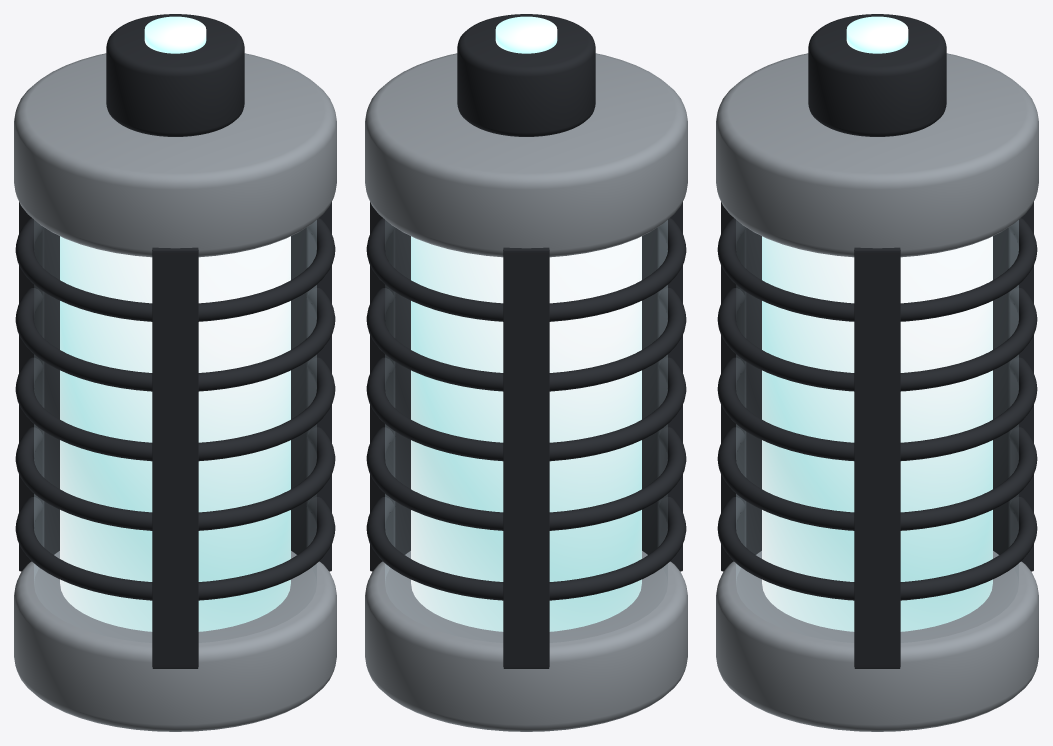
Rendered from coolant.fbx.
The picture shows the model from 3 angles, left to right: view 1: azimuth 30°, elevation 25°; view 2: azimuth 150°, elevation 25°; view 3: azimuth 270°, elevation 25°; orthographic projection.
Parts seen in each view (by area): view 1: Cylinder.002, Cylinder.001, Cylinder.004, Cylinder.003, Cube.002, Cylinder.005, Torus.004, Torus.002, Torus.001, Torus.003, Torus.005, Cube.001 (+2 smaller); view 2: Cylinder.002, Cylinder.001, Cylinder.004, Cylinder.003, Cube.001, Cylinder.005, Torus.004, Torus.002, Torus.001, Torus.003, Torus.005, Cube.002 (+2 smaller); view 3: Cylinder.002, Cylinder.001, Cylinder.004, Cylinder.003, Cube, Cylinder.005, Torus.003, Torus.004, Torus.001, Torus.002, Torus.005, Cube.001 (+2 smaller).
Part boxes in pixels (bbox=[...]): Cylinder.002: bbox=[34, 220, 316, 642]; Cylinder.001: bbox=[60, 236, 290, 631]; Cylinder.004: bbox=[14, 53, 336, 257]; Cylinder.003: bbox=[14, 551, 336, 731]; Cube.002: bbox=[152, 247, 198, 668]; Cylinder.005: bbox=[106, 14, 244, 136]; Torus.004: bbox=[15, 288, 335, 391]; Torus.002: bbox=[15, 427, 335, 530]; Torus.001: bbox=[15, 497, 335, 600]; Torus.003: bbox=[15, 357, 335, 461]; Torus.005: bbox=[15, 218, 335, 321]; Cube.001: bbox=[19, 202, 59, 571]; Cylinder.002: bbox=[385, 220, 667, 642]; Cylinder.001: bbox=[411, 236, 641, 631]; Cylinder.004: bbox=[365, 53, 687, 257]; Cylinder.003: bbox=[365, 551, 687, 731]; Cube.001: bbox=[503, 247, 549, 668]; Cylinder.005: bbox=[457, 14, 595, 136]; Torus.004: bbox=[366, 288, 686, 391]; Torus.002: bbox=[366, 427, 686, 530]; Torus.001: bbox=[366, 497, 686, 600]; Torus.003: bbox=[366, 357, 686, 461]; Torus.005: bbox=[366, 218, 686, 321]; Cube.002: bbox=[642, 202, 682, 571]; Cylinder.002: bbox=[736, 220, 1018, 642]; Cylinder.001: bbox=[762, 236, 992, 631]; Cylinder.004: bbox=[716, 53, 1038, 257]; Cylinder.003: bbox=[716, 551, 1038, 731]; Cube: bbox=[854, 247, 900, 668]; Cylinder.005: bbox=[808, 14, 946, 136]; Torus.003: bbox=[717, 357, 1037, 460]; Torus.004: bbox=[717, 288, 1037, 391]; Torus.001: bbox=[717, 497, 1037, 600]; Torus.002: bbox=[717, 427, 1037, 530]; Torus.005: bbox=[717, 218, 1037, 321]; Cube.001: bbox=[993, 202, 1033, 571].
Size of the model in its own units: 21.4 by 45.8 by 21.
